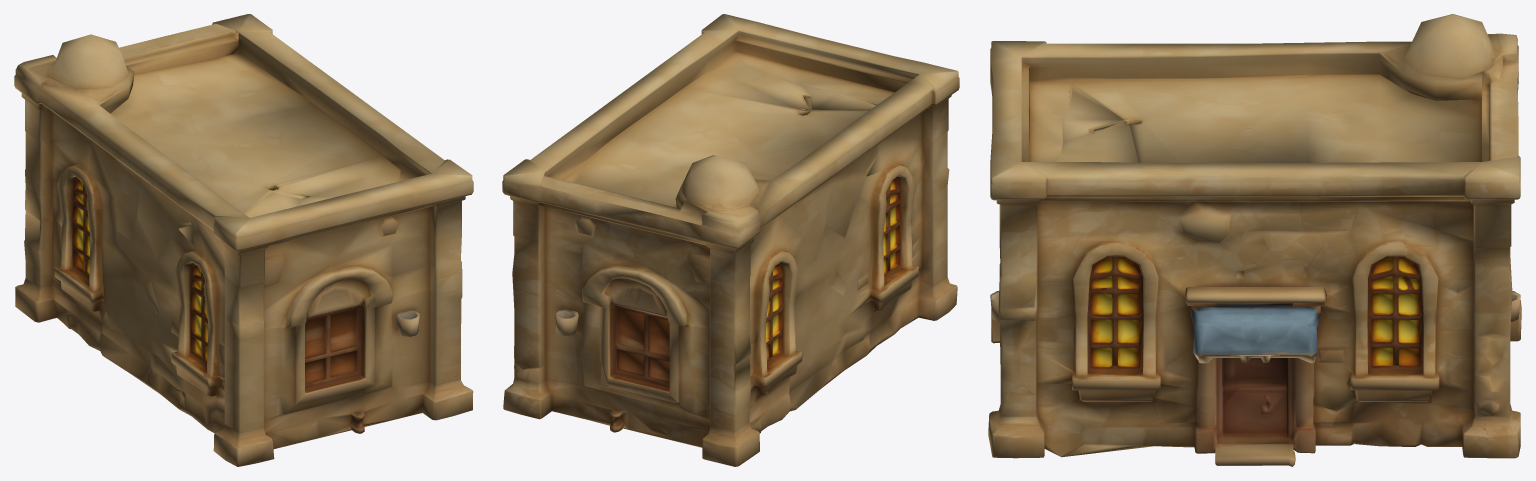
3 views of the same model, side by side, from view 1: azimuth 30°, elevation 25°; view 2: azimuth 150°, elevation 25°; view 3: azimuth 270°, elevation 25° (orthographic). The views are drawn at different scales.
Parts seen in each view (by area): view 1: tripo_node_c9b19f9b-ad2c-4e12-baa5-bda69e3e3485; view 2: tripo_node_c9b19f9b-ad2c-4e12-baa5-bda69e3e3485; view 3: tripo_node_c9b19f9b-ad2c-4e12-baa5-bda69e3e3485.
Part boxes in pixels (x1,y1,x2,y2): tripo_node_c9b19f9b-ad2c-4e12-baa5-bda69e3e3485: (14,14,473,466); tripo_node_c9b19f9b-ad2c-4e12-baa5-bda69e3e3485: (502,14,959,466); tripo_node_c9b19f9b-ad2c-4e12-baa5-bda69e3e3485: (988,14,1521,466).
Bounding box in the file's own units: 0.6595 × 0.6888 × 0.998.
Materials: 1 (1 with a texture image).
